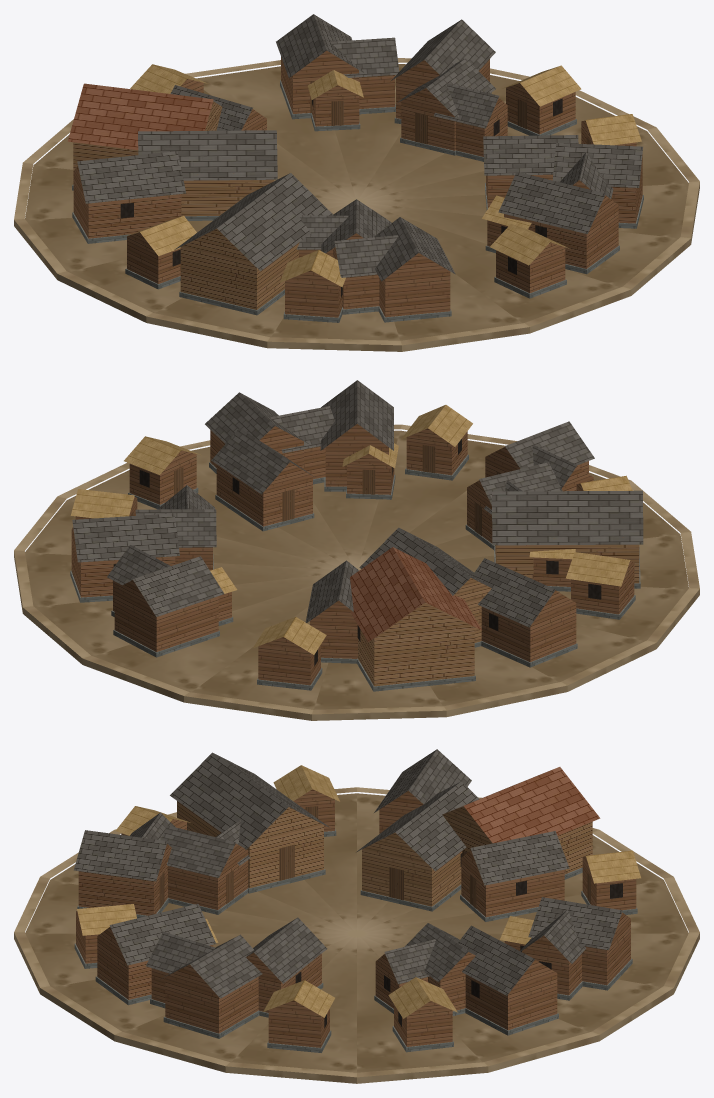
Rendered from ae_sand_village_small_lod2.glb.
3 renders of one model, top to bottom at view 1: azimuth 30°, elevation 25°; view 2: azimuth 150°, elevation 25°; view 3: azimuth 270°, elevation 25°, orthographic.
Parts seen in each view (by area): view 1: ae_sand_village_small_lod2; view 2: ae_sand_village_small_lod2; view 3: ae_sand_village_small_lod2.
Boxes of the visible parts, x1,y1,x2,y2 form: ae_sand_village_small_lod2: (14, 14, 699, 351); ae_sand_village_small_lod2: (14, 380, 699, 720); ae_sand_village_small_lod2: (14, 749, 699, 1083).
Bounding box in the file's own units: 1.9 × 0.2738 × 1.9.
Materials: 1 (1 with a texture image).
